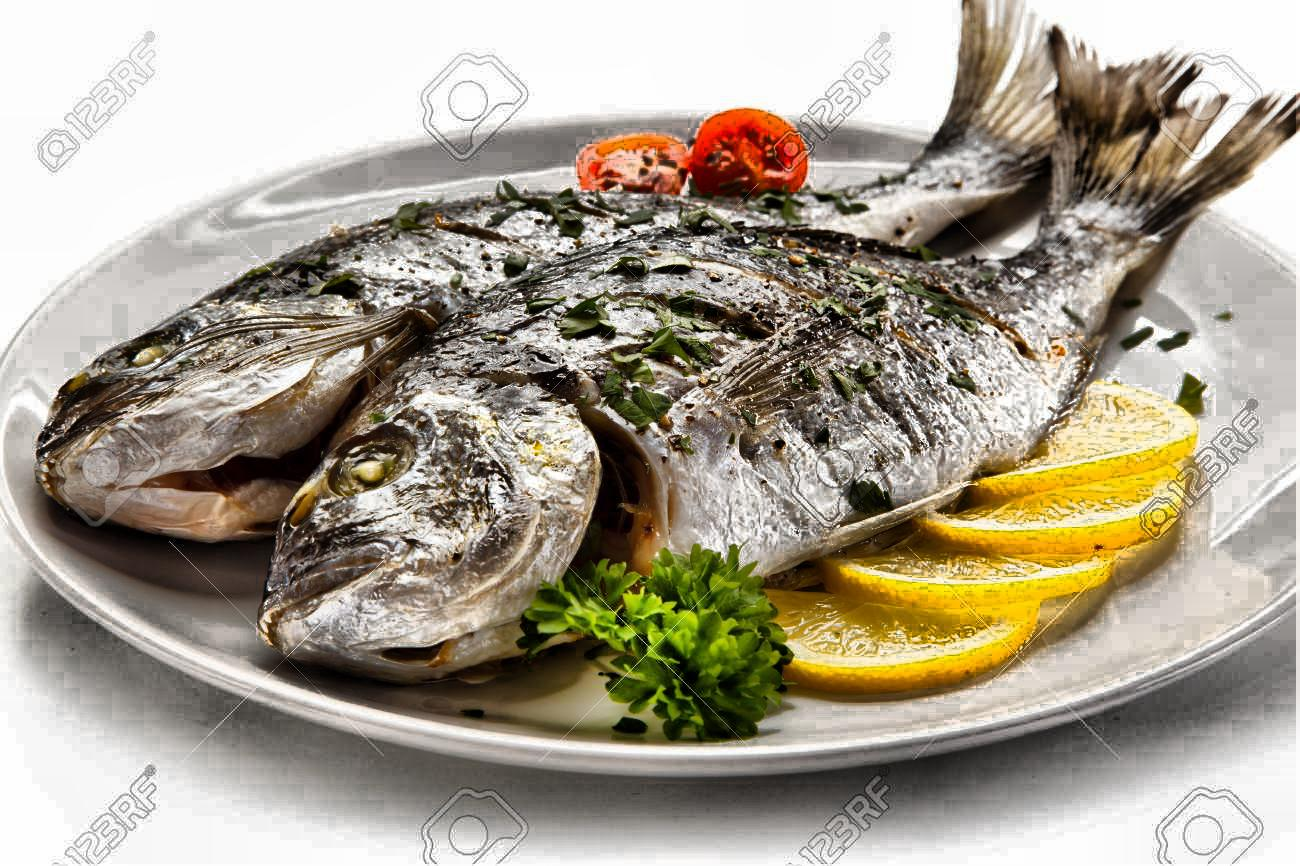fish: (218, 22, 1235, 727)
